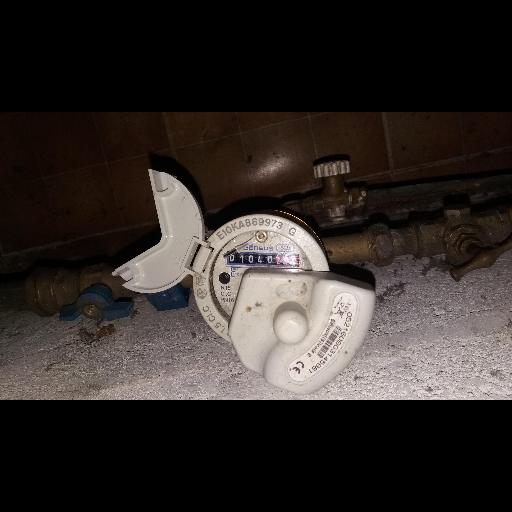0: (229, 253, 236, 264), (248, 254, 254, 264), (267, 255, 273, 265)
1: (240, 253, 245, 263)
2: (275, 255, 281, 265)
4: (257, 254, 263, 264), (283, 255, 289, 265)
border_water_meter_number: (227, 251, 300, 267)
